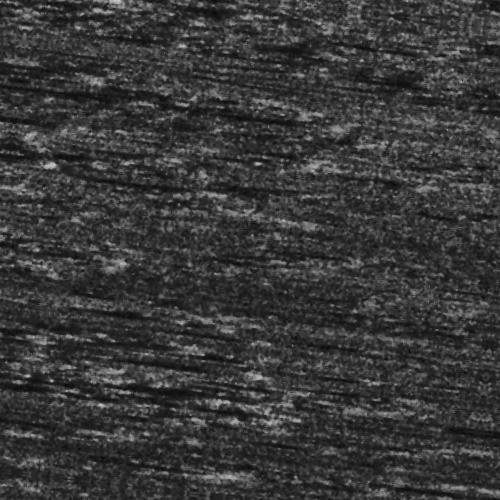object: (192, 467, 297, 480), (209, 367, 292, 374), (2, 182, 55, 191), (51, 10, 114, 17), (89, 112, 130, 117)
shadow: (100, 467, 244, 480), (166, 367, 250, 374), (0, 10, 82, 17), (0, 112, 109, 117), (195, 116, 315, 119), (0, 182, 28, 191)
